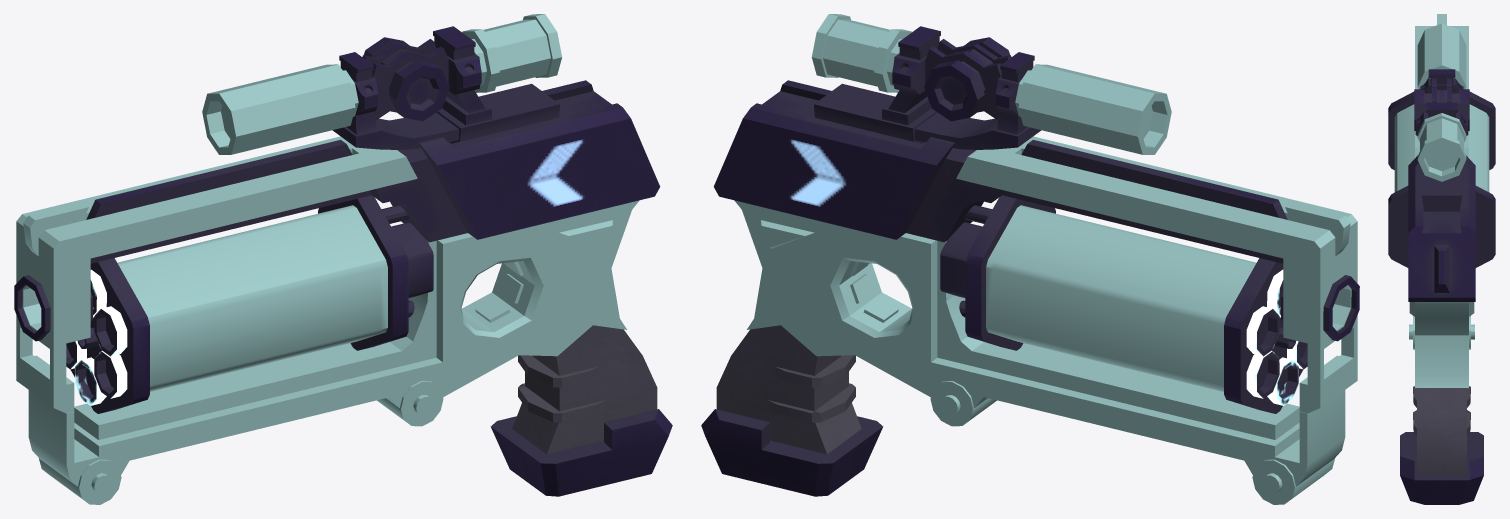
File: Gun_GameJam_low_02.fbx
3 views of the same model, side by side, from view 1: azimuth 30°, elevation 25°; view 2: azimuth 150°, elevation 25°; view 3: azimuth 270°, elevation 25° (orthographic). The views are drawn at different scales.
Visible parts, largest first — view 1: Glass_low; view 2: Glass_low; view 3: Glass_low.
Part boxes in pixels (<box>): Glass_low: <box>14,14,672,504</box>; Glass_low: <box>701,14,1359,504</box>; Glass_low: <box>1388,14,1495,504</box>.
Size of the model in its own units: 144 by 102 by 29.71.
Materials: 2 (1 with a texture image).
